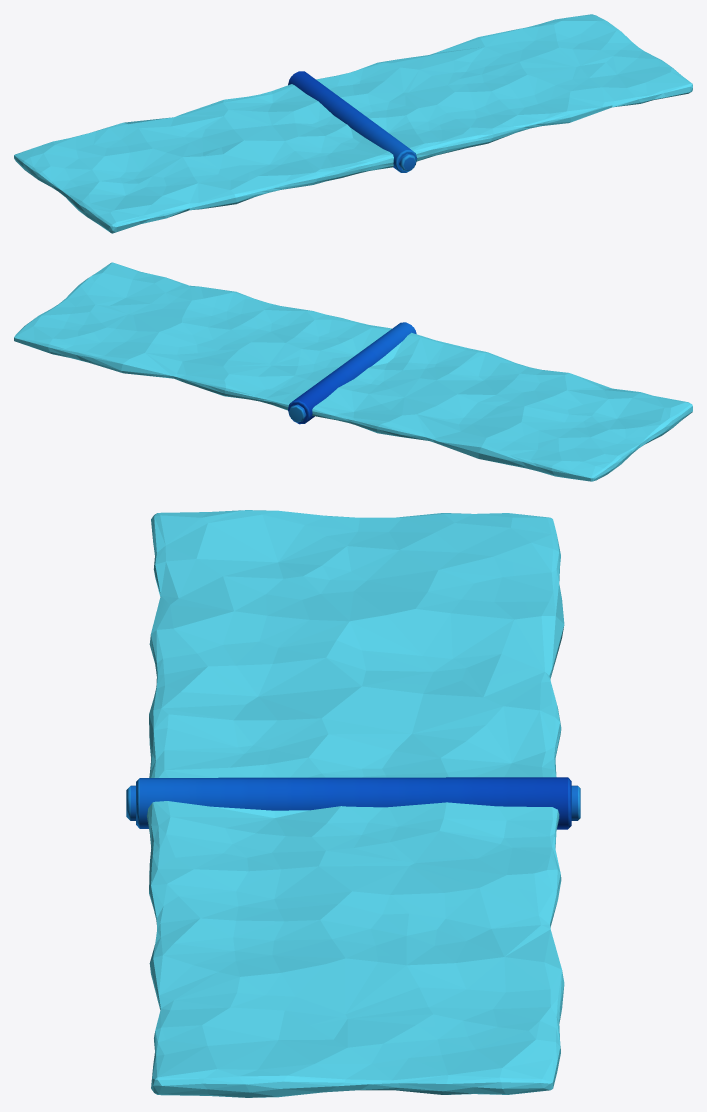
The model's file is obstacle_2_001.fbx.
The picture shows the model from 3 angles, top to bottom: view 1: azimuth 30°, elevation 25°; view 2: azimuth 150°, elevation 25°; view 3: azimuth 270°, elevation 25°; orthographic projection. The views are drawn at different scales.
Parts seen in each view (by area): view 1: obstacle_2_001; view 2: obstacle_2_001; view 3: obstacle_2_001.
Boxes of the visible parts, x1,y1,x2,y2 form: obstacle_2_001: (14,14,692,233); obstacle_2_001: (14,262,692,481); obstacle_2_001: (126,510,580,1097).
Bounding box in the file's own units: 1872 × 628 × 72.4.
